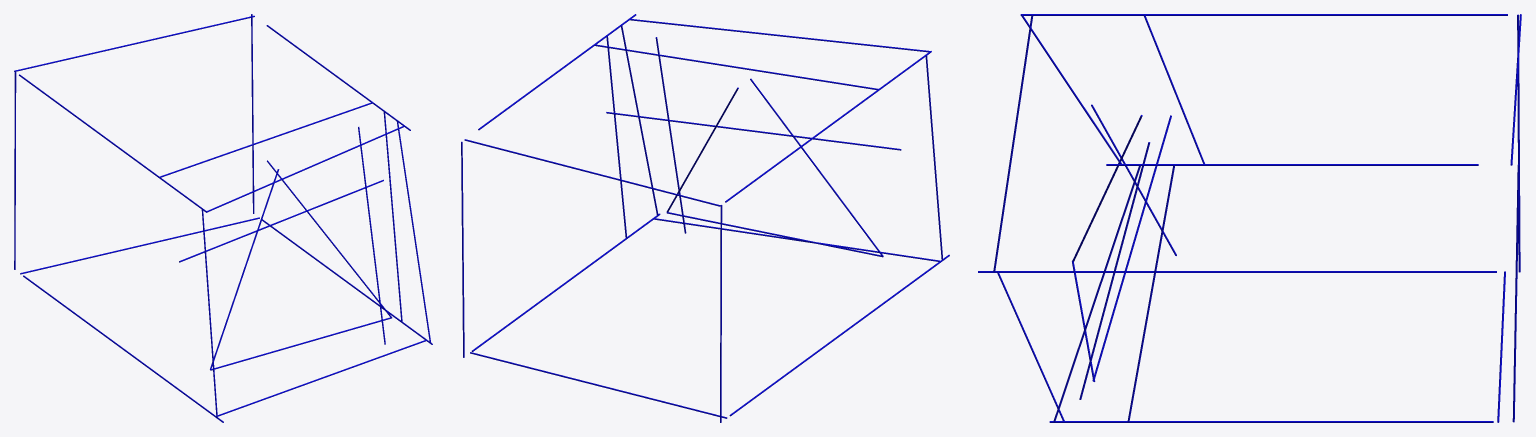
Rendered from corrected_3d_strokes.glb.
3 views of the same model, side by side, from view 1: azimuth 30°, elevation 25°; view 2: azimuth 150°, elevation 25°; view 3: azimuth 270°, elevation 25° (orthographic). The views are drawn at different scales.
Visible parts, largest first — view 1: world; view 2: world; view 3: world.
Boxes of the visible parts, <box> form: world: <box>14,14,432,422</box>; world: <box>461,14,949,422</box>; world: <box>978,14,1521,422</box>.
Bounding box in the file's own units: 7.07 × 5.66 × 10.77.
